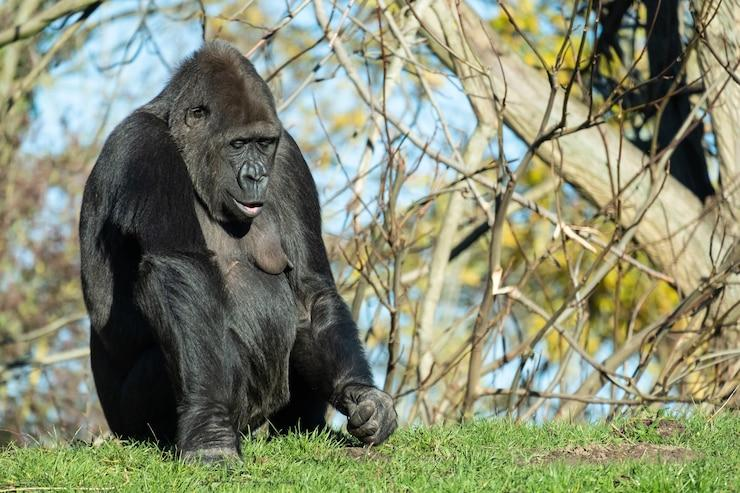gorille_Autres: (58, 0, 423, 479)
